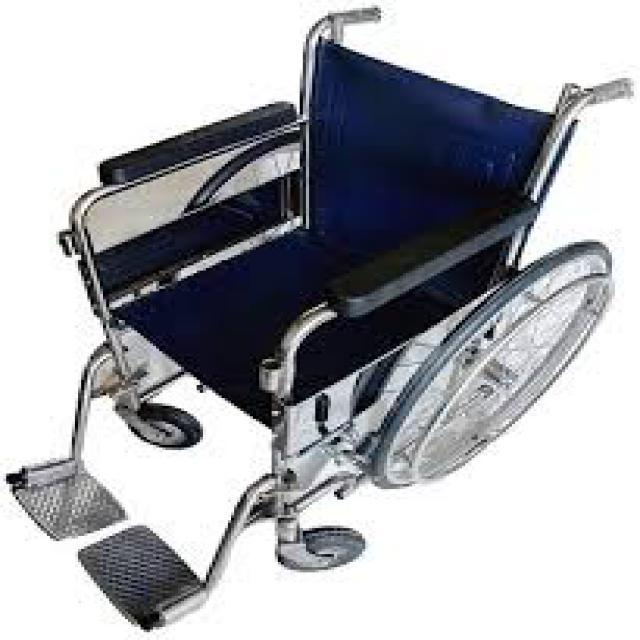wheelchair: (12, 2, 630, 638)
